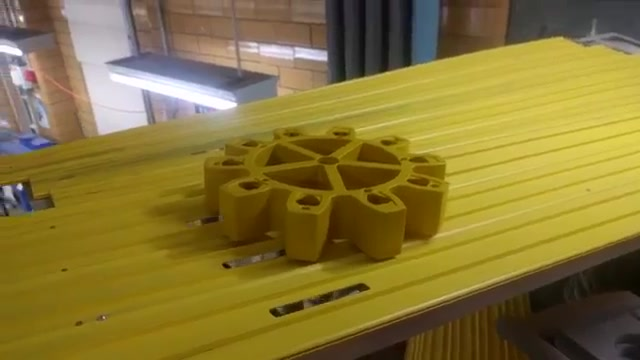gear: (199, 129, 454, 265)
